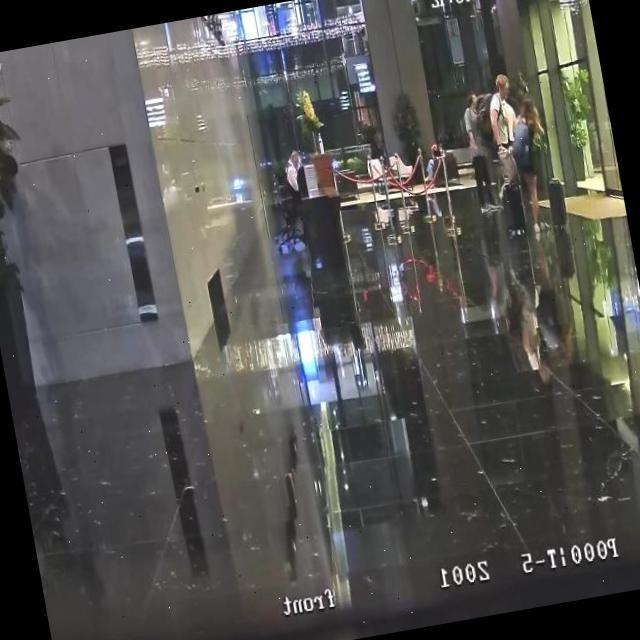person: (504, 92, 563, 238), (480, 72, 530, 206), (458, 90, 499, 214), (275, 147, 311, 213), (416, 140, 449, 190)
